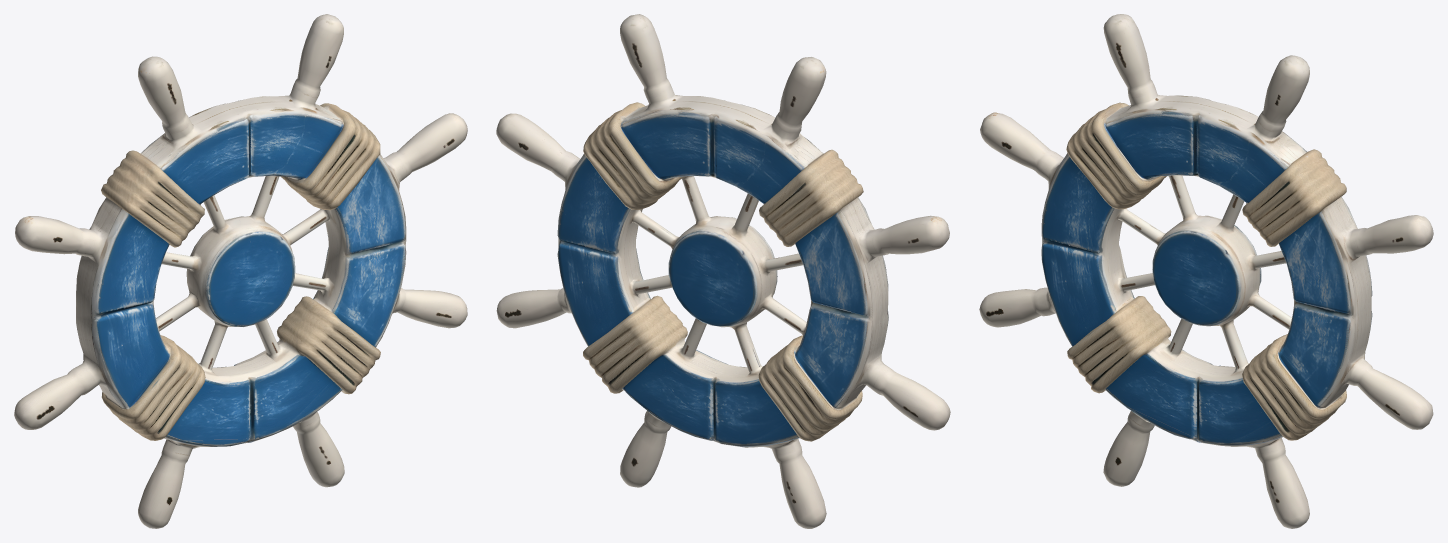
The model's file is blue-shipwheel.glb.
3 renders of one model, left to right at view 1: azimuth 30°, elevation 25°; view 2: azimuth 150°, elevation 25°; view 3: azimuth 330°, elevation 25°, orthographic.
Bounding box in the file's own units: 1.91 × 1.91 × 0.2544.
1 material, 1 textured.
